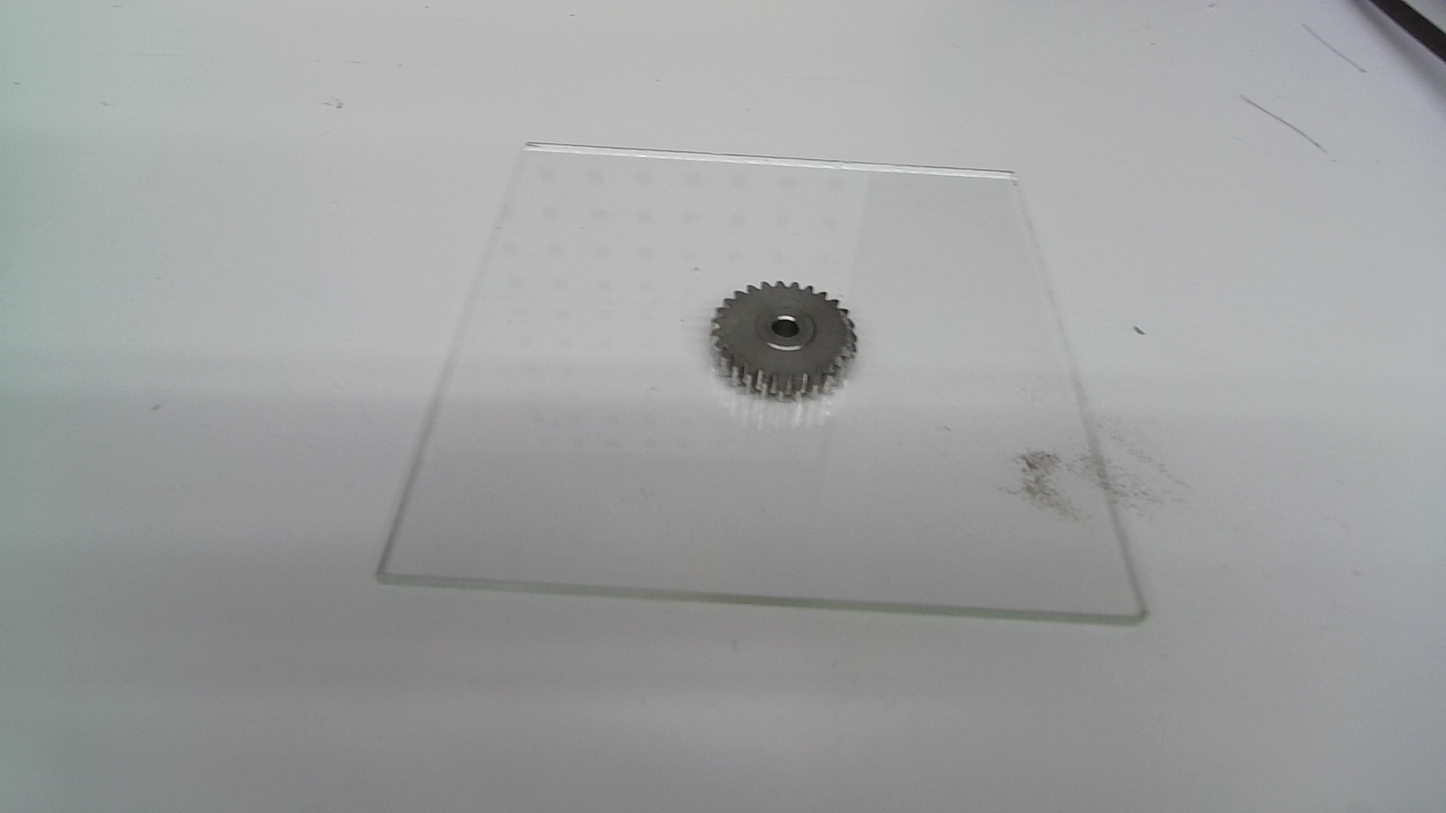gear: (708, 279, 859, 403)
